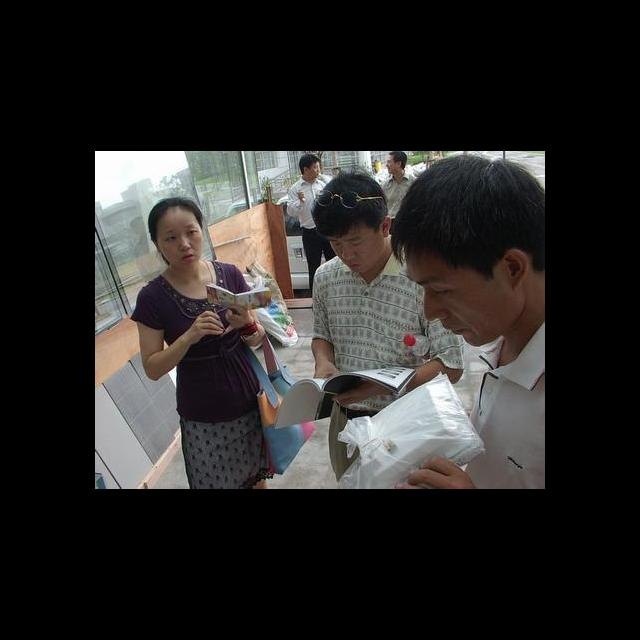NO-Hardhat: (391, 155, 545, 271), (309, 173, 389, 240), (147, 196, 201, 229), (297, 154, 322, 167), (388, 151, 407, 161)
NO-Mask: (426, 299, 525, 348), (346, 240, 387, 274), (164, 245, 204, 265), (309, 171, 318, 179), (387, 166, 397, 173)
NO-Safety Vest: (314, 258, 428, 409), (149, 265, 259, 413), (468, 341, 545, 489), (382, 176, 415, 219), (294, 182, 324, 229)
Person: (393, 156, 545, 489), (310, 173, 463, 489), (136, 195, 267, 489), (287, 153, 337, 295), (381, 151, 417, 233)
vehicle: (275, 193, 329, 290)
